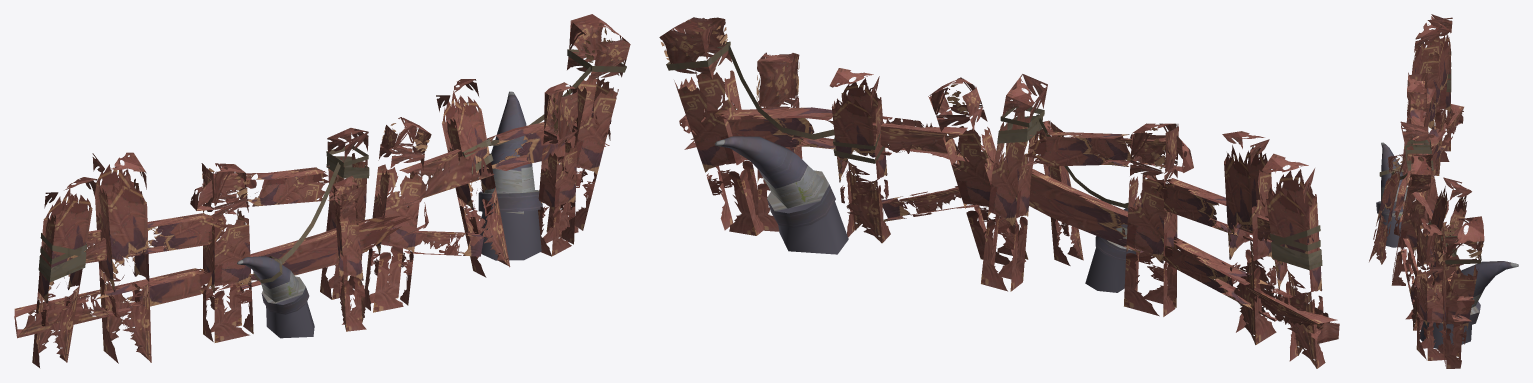
The model's file is Homeworld_Exterior_Common_Decoration_Rail_03_Lod0.fbx.
3 renders of one model, left to right at view 1: azimuth 30°, elevation 25°; view 2: azimuth 150°, elevation 25°; view 3: azimuth 270°, elevation 25°, orthographic. The views are drawn at different scales.
Parts seen in each view (by area): view 1: Area_Common_Build_Hili_Defence_04_Lod0; view 2: Area_Common_Build_Hili_Defence_04_Lod0; view 3: Area_Common_Build_Hili_Defence_04_Lod0.
Part boxes in pixels (x1=…): Area_Common_Build_Hili_Defence_04_Lod0: x1=14, y1=14, x2=630, y2=367; Area_Common_Build_Hili_Defence_04_Lod0: x1=659, y1=17, x2=1339, y2=368; Area_Common_Build_Hili_Defence_04_Lod0: x1=1369, y1=14, x2=1518, y2=368.
Size of the model in its own units: 6.39 by 1.94 by 1.67.
